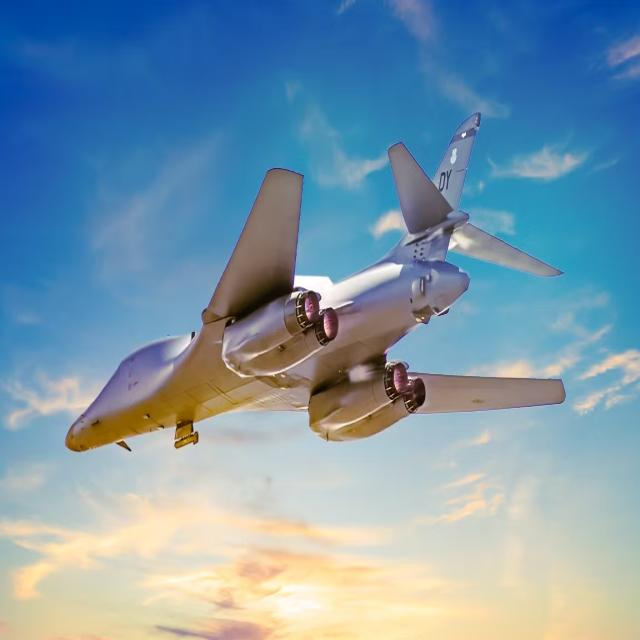A10: (61, 91, 589, 484)
